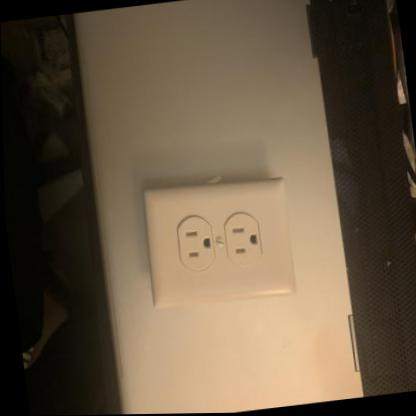OUTLET: (135, 169, 298, 312)
